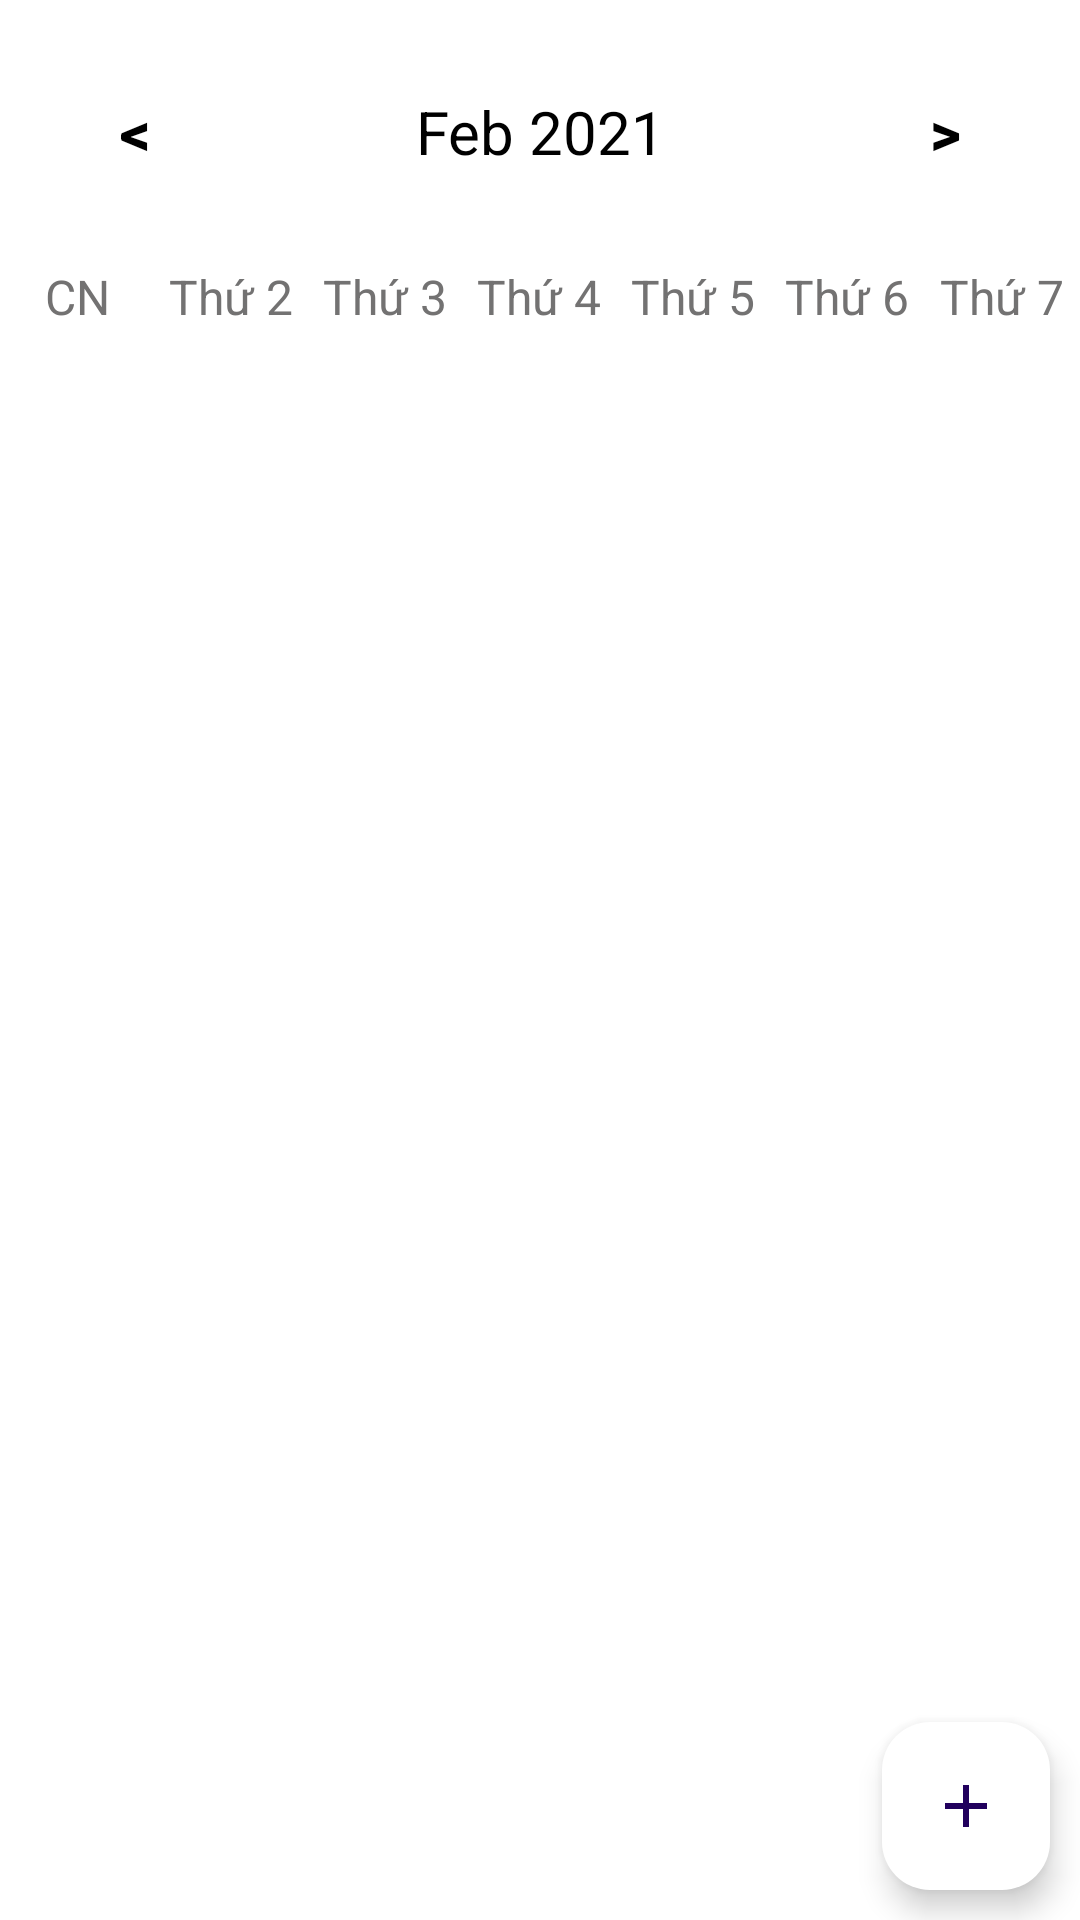

Named icons in this screenshot (1080px×1920px) and their bounding boxes, (x1, y1, x2, y2):
add: (888, 1785, 1050, 1890)
